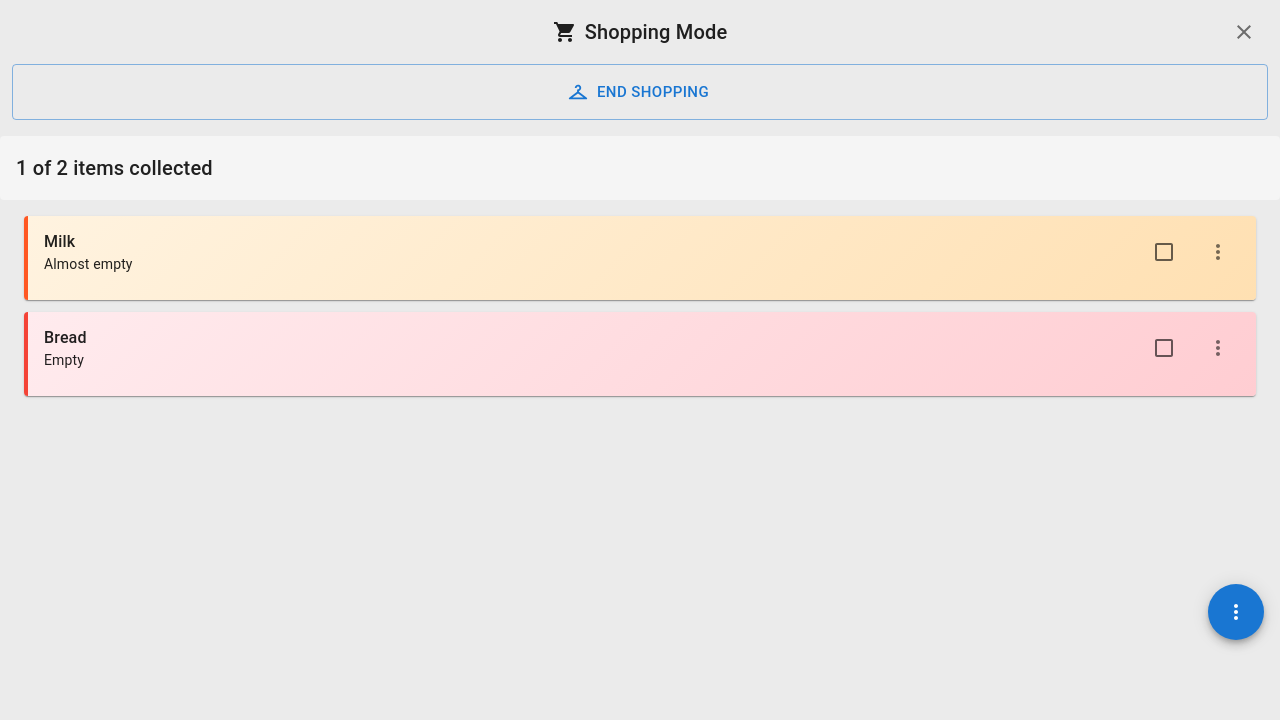
Scenario: ShoppingList › User-Initiated Shopping Completion (Story 9.2) › should exit shopping mode when confirm button clicked
What coordinates should you click on to do the following:
click the button "End Shopping"
I would click on:
 (640, 92)
Its box is [12,64,1268,120].
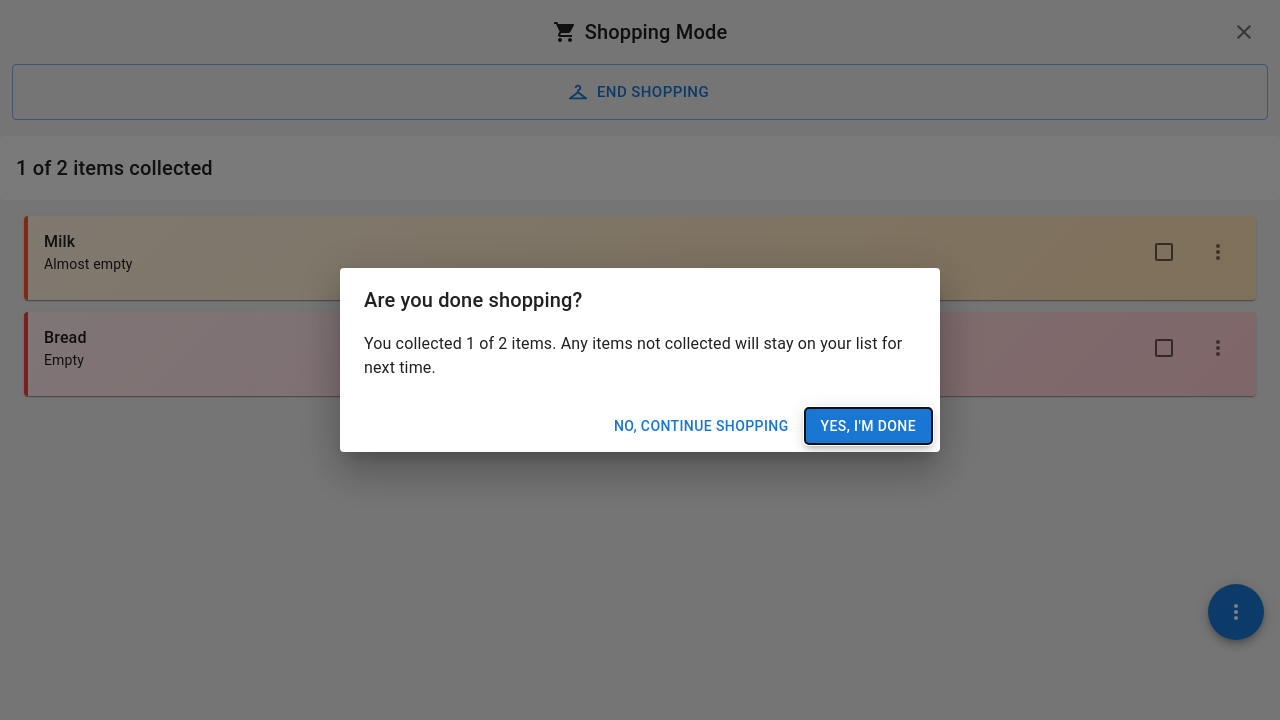
What coordinates should you click on to do the following:
click the button "Yes, I'm done"
I would click on:
 (868, 426)
Its box is [805,408,932,444].
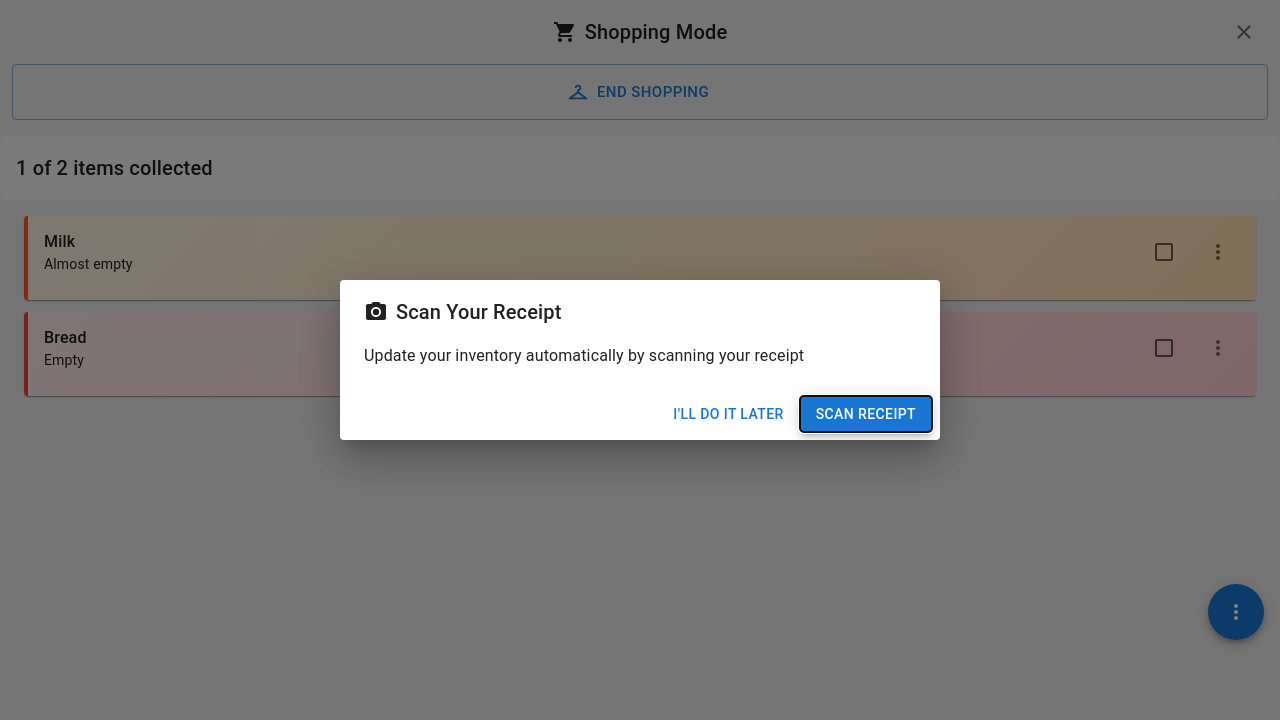
Expected: the text "Scan Your Receipt" is shown, [364,300,562,324]
